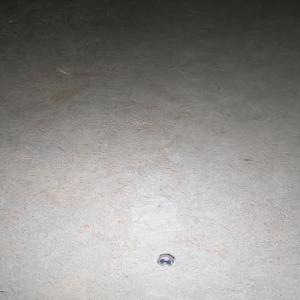Nut: (157, 254, 176, 266)
